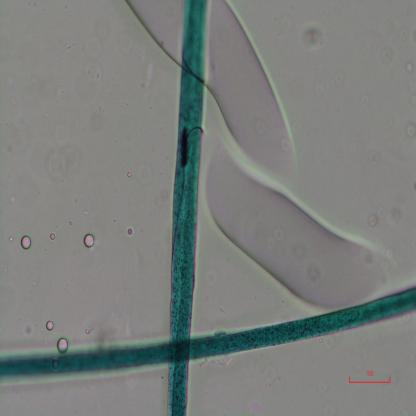Air bubble: (208, 143, 384, 300), (207, 2, 297, 156), (124, 0, 183, 68), (56, 337, 68, 356), (82, 232, 96, 247), (20, 235, 31, 252), (45, 320, 54, 332), (48, 232, 56, 242)
Background material: (42, 124, 88, 186), (299, 24, 327, 50), (366, 146, 381, 166), (404, 121, 416, 139), (391, 206, 402, 224), (125, 223, 135, 241), (367, 214, 378, 229), (405, 60, 414, 73), (127, 172, 132, 182)
Microfibre: (0, 287, 416, 384), (166, 0, 209, 415)
